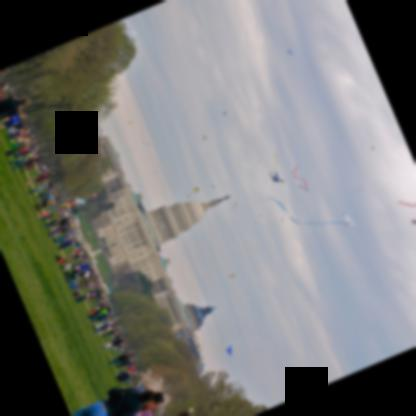handbag: (107, 391, 139, 399), (104, 342, 110, 348)
